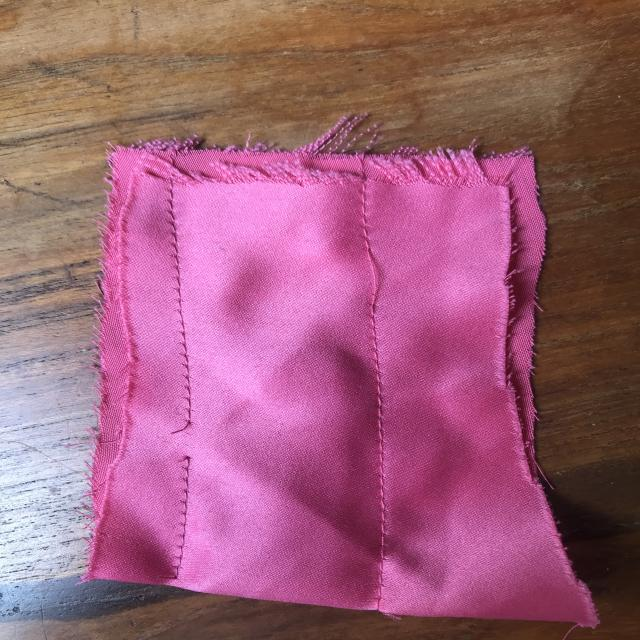broken: (164, 407, 212, 478)
good: (362, 364, 402, 474)
skip: (345, 234, 401, 324)
